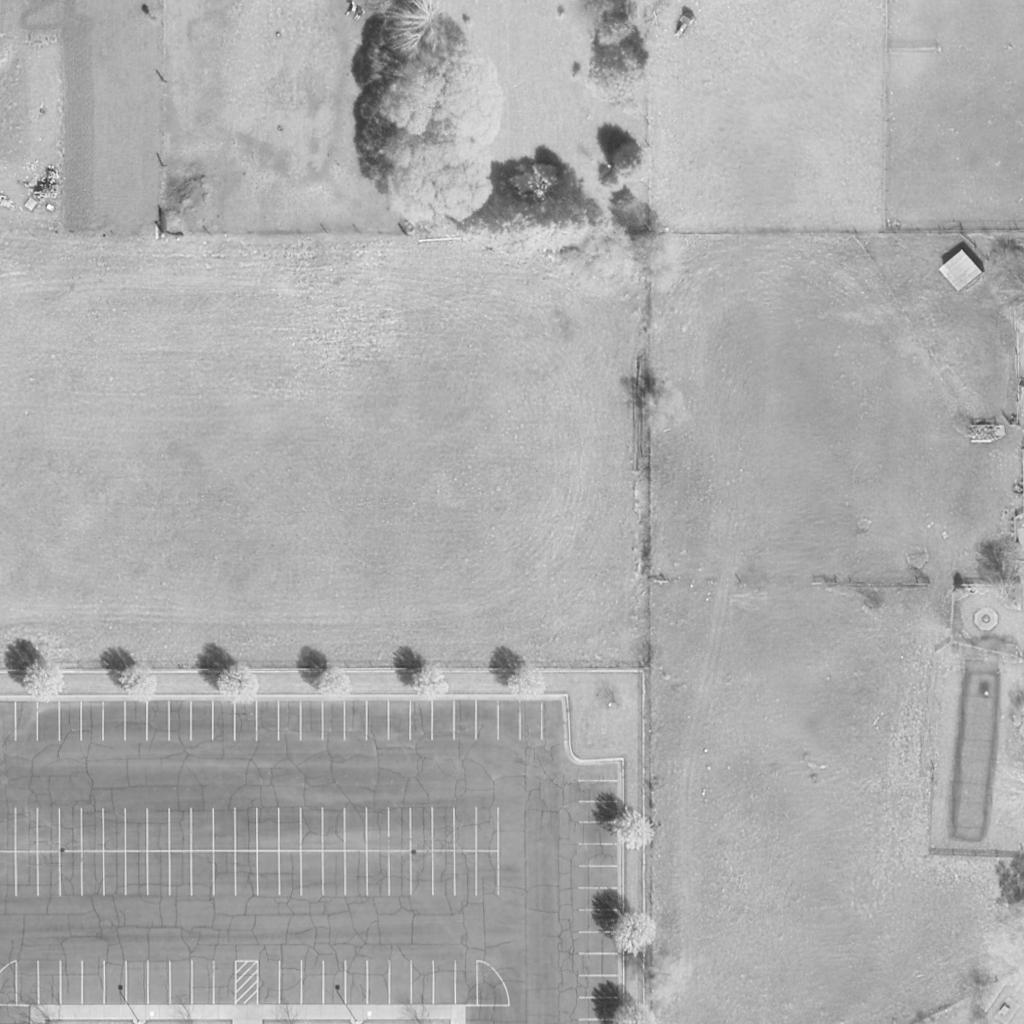vehicle: (668, 9, 700, 45)
